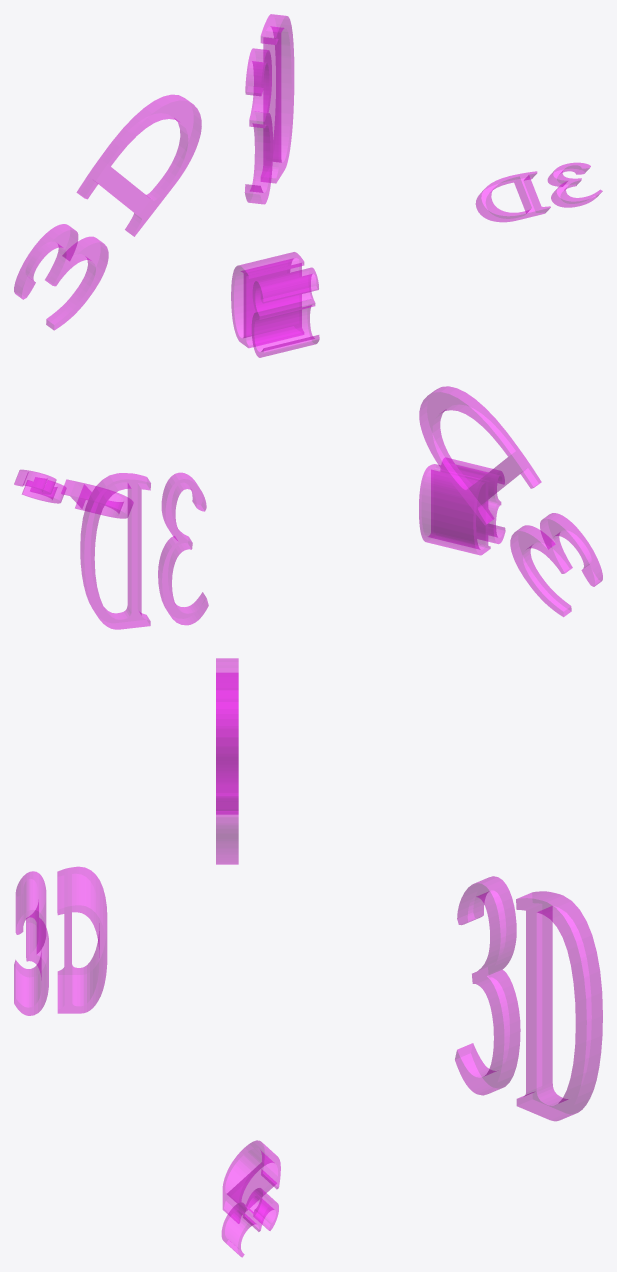
The model's file is targets.glb.
The picture shows the model from 3 angles, top to bottom: view 1: azimuth 30°, elevation 25°; view 2: azimuth 150°, elevation 25°; view 3: azimuth 270°, elevation 25°; orthographic projection. The views are drawn at different scales.
Bounding box in the file's own units: 4.2 × 1.47 × 2.59.
